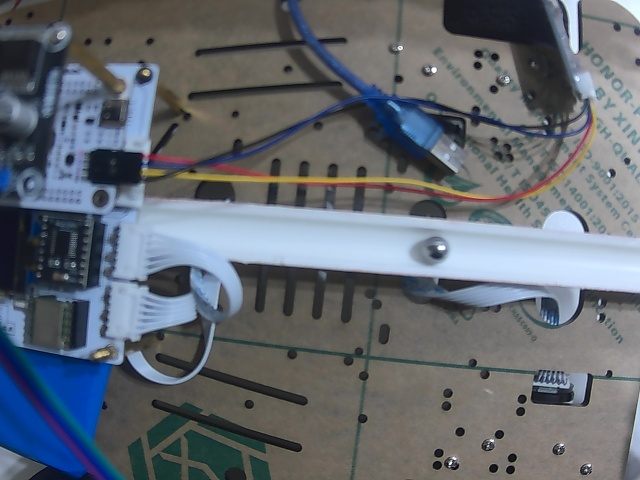steelball: (422, 236, 449, 263)
